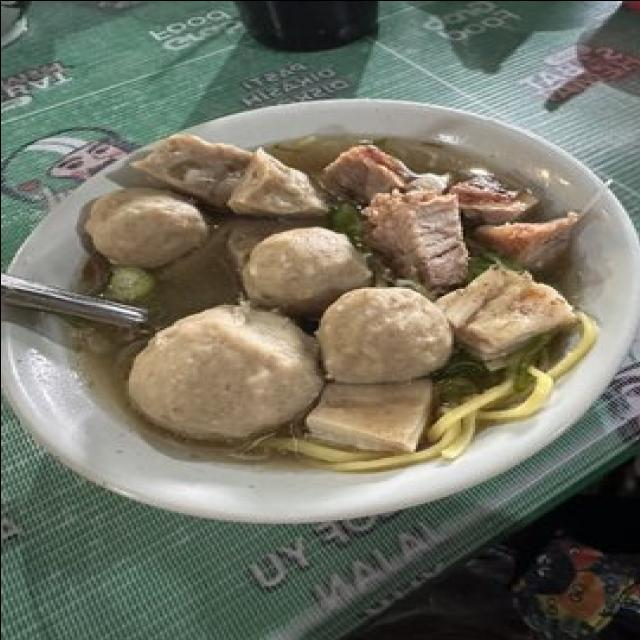bakso: (40, 117, 600, 473)
